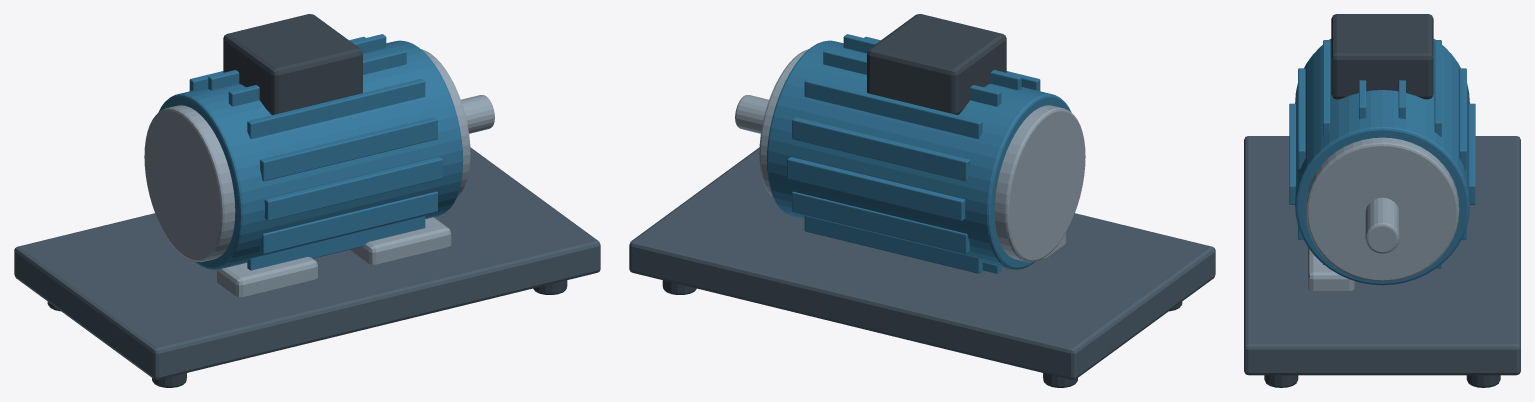
File: industrial-motor-lod0.glb
3 renders of one model, left to right at view 1: azimuth 30°, elevation 25°; view 2: azimuth 150°, elevation 25°; view 3: azimuth 270°, elevation 25°, orthographic. The views are drawn at different scales.
Parts seen in each view (by area): view 1: drive_base, motor, motor_rear_endcap, motor_terminal_box, motor_cooling_fin_07, motor_cooling_fin_06, motor_cooling_fin_08, motor_cooling_fin_05, motor_foot_left, motor_cooling_fin_09, motor_foot_right, motor_cooling_fin_04 (+3 smaller); view 2: drive_base, motor, motor_rear_endcap, motor_terminal_box, motor_cooling_fin_00, motor_cooling_fin_01, motor_cooling_fin_13, motor_cooling_fin_02, motor_cooling_fin_12, motor_cooling_fin_03, motor_front_endcap, motor_shaft (+1 smaller); view 3: drive_base, motor_front_endcap, motor, motor_terminal_box, motor_shaft, motor_foot_right, motor_cooling_fin_01, motor_cooling_fin_06, motor_cooling_fin_02, motor_cooling_fin_05, motor_cooling_fin_00, motor_cooling_fin_07 (+4 smaller).
Boxes of the visible parts, x1,y1,x2,y2 form: drive_base: [14, 147, 600, 379]; motor: [158, 40, 463, 269]; motor_rear_endcap: [144, 105, 235, 262]; motor_terminal_box: [223, 14, 362, 114]; motor_cooling_fin_07: [264, 157, 442, 220]; motor_cooling_fin_06: [260, 117, 437, 181]; motor_cooling_fin_08: [260, 191, 437, 253]; motor_cooling_fin_05: [247, 79, 425, 139]; motor_foot_left: [216, 257, 317, 297]; motor_cooling_fin_09: [247, 216, 425, 270]; motor_foot_right: [350, 217, 451, 264]; motor_cooling_fin_04: [228, 49, 406, 106]; drive_base: [629, 147, 1215, 379]; motor: [766, 40, 1071, 269]; motor_rear_endcap: [994, 105, 1085, 262]; motor_terminal_box: [867, 14, 1006, 114]; motor_cooling_fin_00: [787, 157, 965, 220]; motor_cooling_fin_01: [792, 117, 969, 181]; motor_cooling_fin_13: [792, 191, 969, 253]; motor_cooling_fin_02: [804, 79, 982, 139]; motor_cooling_fin_12: [804, 216, 982, 273]; motor_cooling_fin_03: [823, 49, 1001, 106]; motor_front_endcap: [759, 49, 808, 196]; motor_shaft: [735, 95, 768, 133]; drive_base: [1244, 136, 1520, 375]; motor_front_endcap: [1305, 137, 1459, 281]; motor: [1295, 39, 1469, 285]; motor_terminal_box: [1331, 14, 1433, 99]; motor_shaft: [1365, 197, 1399, 253]; motor_foot_right: [1308, 247, 1354, 290]; motor_cooling_fin_01: [1459, 68, 1466, 169]; motor_cooling_fin_06: [1298, 68, 1305, 169]; motor_cooling_fin_02: [1434, 40, 1441, 137]; motor_cooling_fin_05: [1323, 40, 1330, 137]; motor_cooling_fin_00: [1469, 103, 1475, 204]; motor_cooling_fin_07: [1289, 103, 1295, 204].
Bounding box in the file's own units: 4.7 × 2.6 × 2.6.
